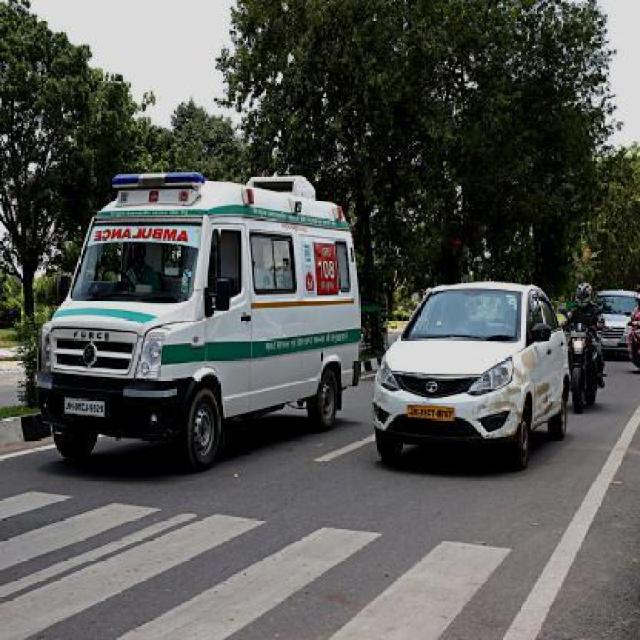Ambulance: (27, 137, 370, 448)
